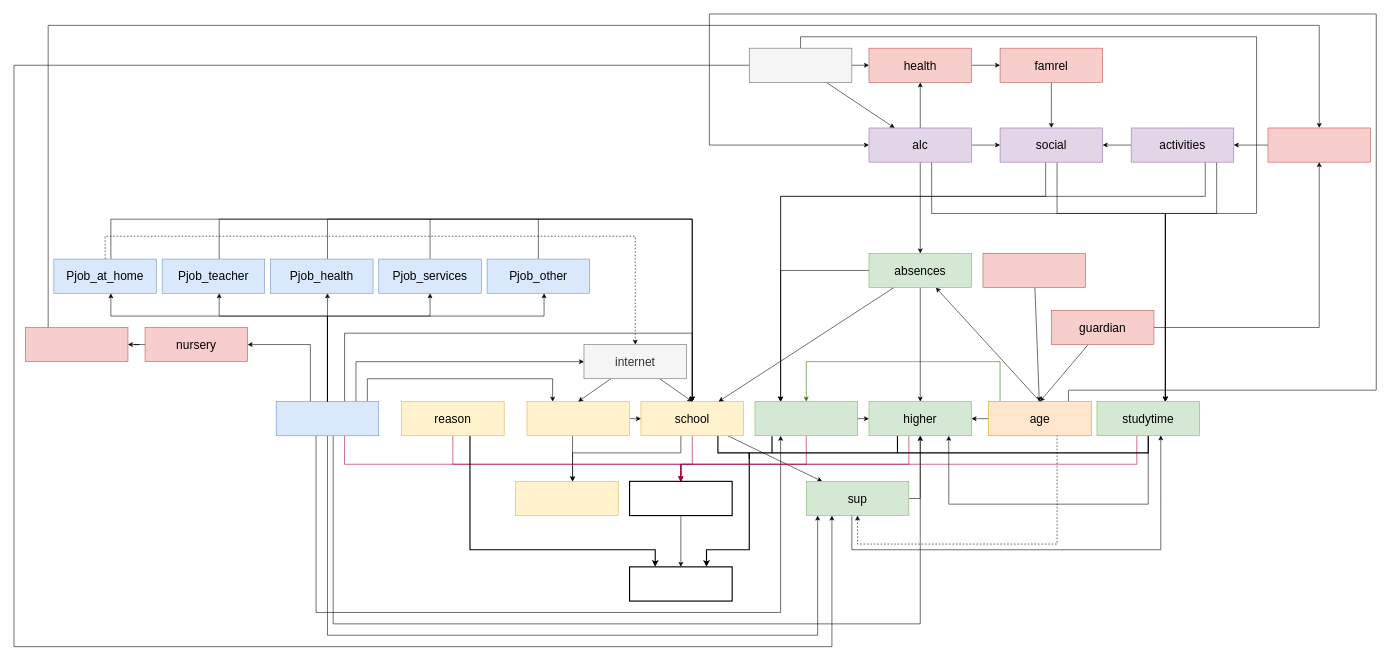
The diagram is 1391 pixels wide and 661 high, and some of its shapes have lost their labels. Each missing label, with the centre of its shape:
address: the point at 578,418
failures: the point at 806,418
famsize: the point at 76,344
G1 | G2: the point at 680,498
G3: the point at 680,583
Pedu: the point at 327,418
Pstatus: the point at 1319,144
romantic: the point at 1034,270
sex: the point at 800,65
traveltime: the point at 566,498
